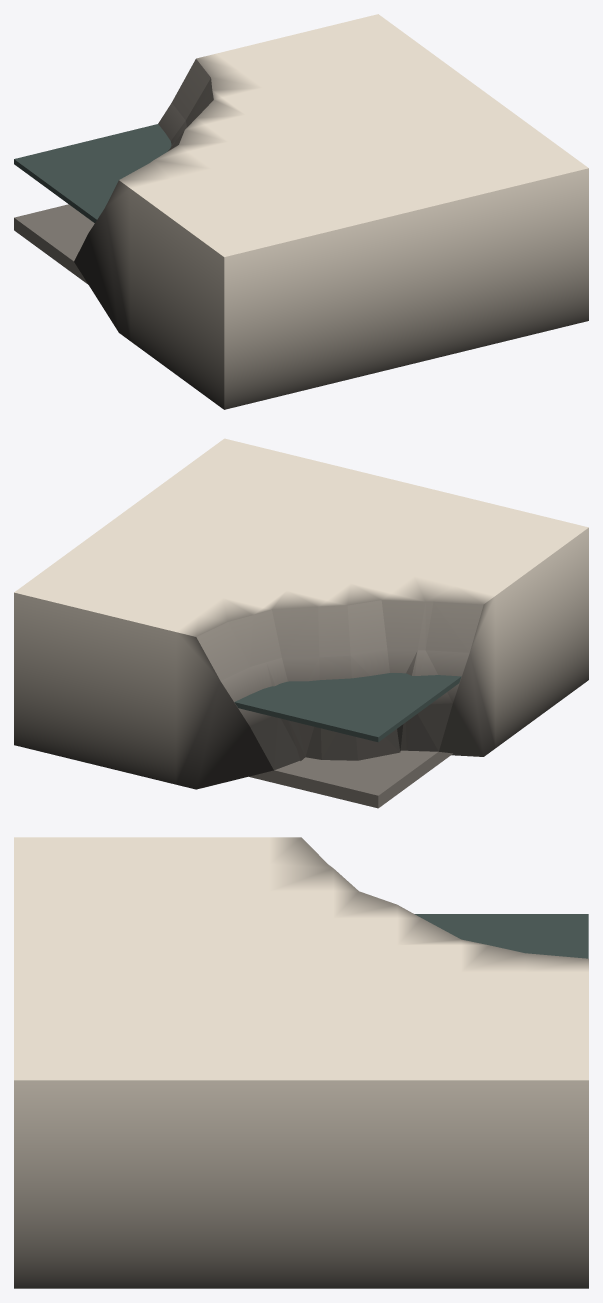
Rendered from SM_VKI_Ground_Stream_OOOX_Q01.fbx.
The picture shows the model from 3 angles, top to bottom: view 1: azimuth 30°, elevation 25°; view 2: azimuth 150°, elevation 25°; view 3: azimuth 270°, elevation 25°; orthographic projection. The views are drawn at different scales.
Visible parts, largest first — view 1: SM_VKI_Ground_Stream_OOOX_Q01.001; view 2: SM_VKI_Ground_Stream_OOOX_Q01.001; view 3: SM_VKI_Ground_Stream_OOOX_Q01.001.
Part boxes in pixels (x1,y1,x2,y2): SM_VKI_Ground_Stream_OOOX_Q01.001: (14, 14, 588, 409); SM_VKI_Ground_Stream_OOOX_Q01.001: (14, 438, 588, 808); SM_VKI_Ground_Stream_OOOX_Q01.001: (14, 837, 588, 1288).
Bounding box in the file's own units: 1.5 × 0.6 × 1.5.
